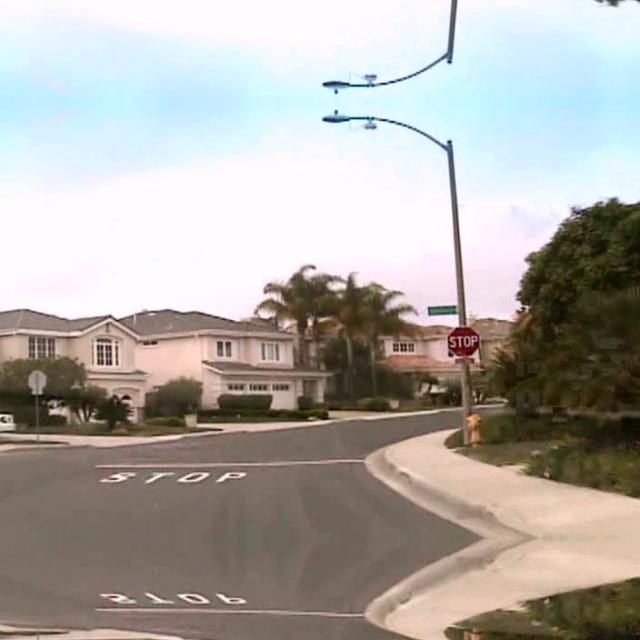stop: (447, 325, 479, 355)
